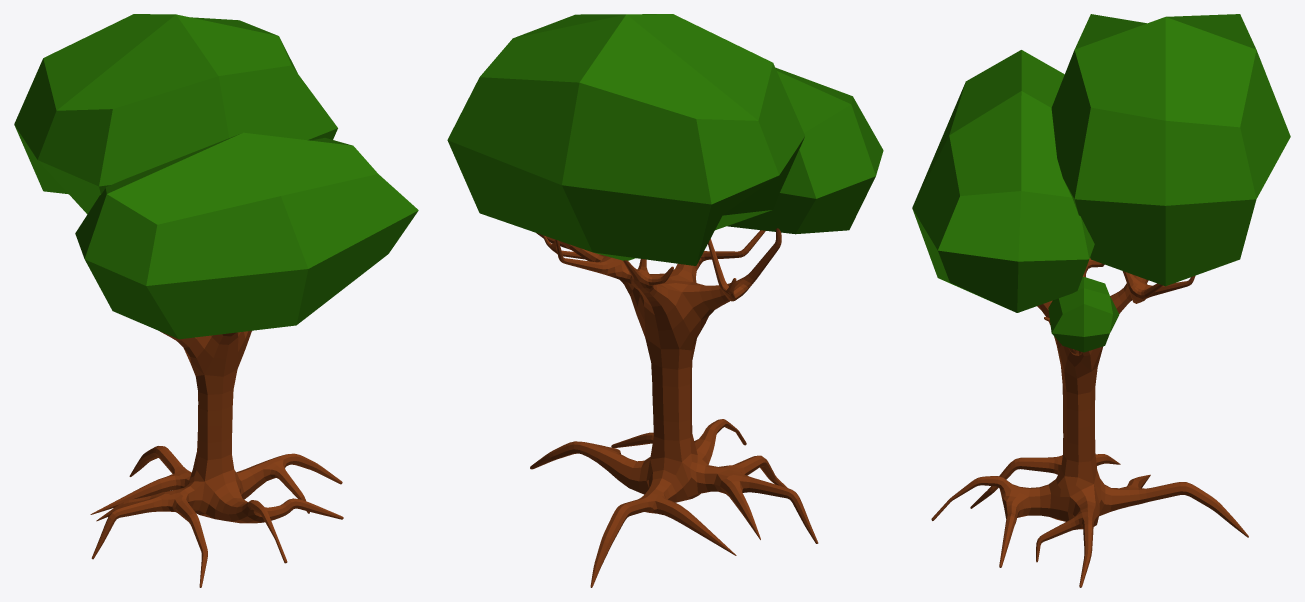
Rendered from arbol (modelo 3) (2).fbx.
3 renders of one model, left to right at view 1: azimuth 30°, elevation 25°; view 2: azimuth 150°, elevation 25°; view 3: azimuth 270°, elevation 25°, orthographic. The views are drawn at different scales.
Visible parts, largest first — view 1: tronco; view 2: tronco; view 3: tronco.
Boxes of the visible parts, <box> form: tronco: <box>14,14,418,587</box>; tronco: <box>447,14,883,587</box>; tronco: <box>912,14,1290,587</box>.
Bounding box in the file's own units: 873 × 1311 × 855.
